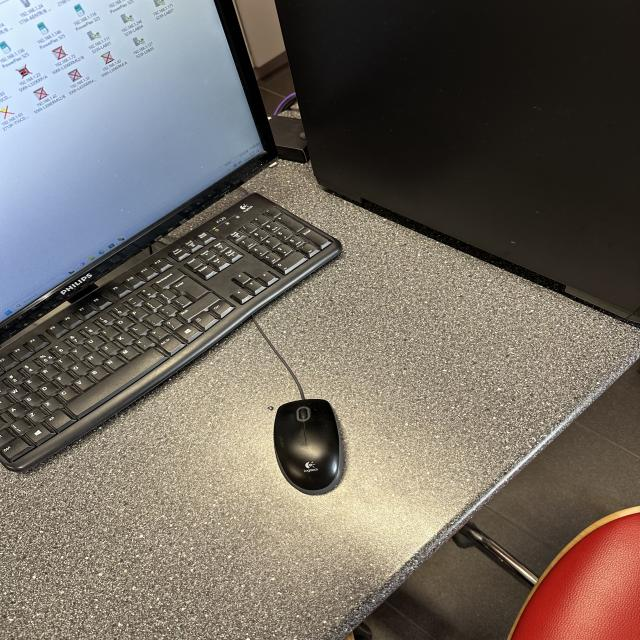mysz: (264, 395, 356, 499)
